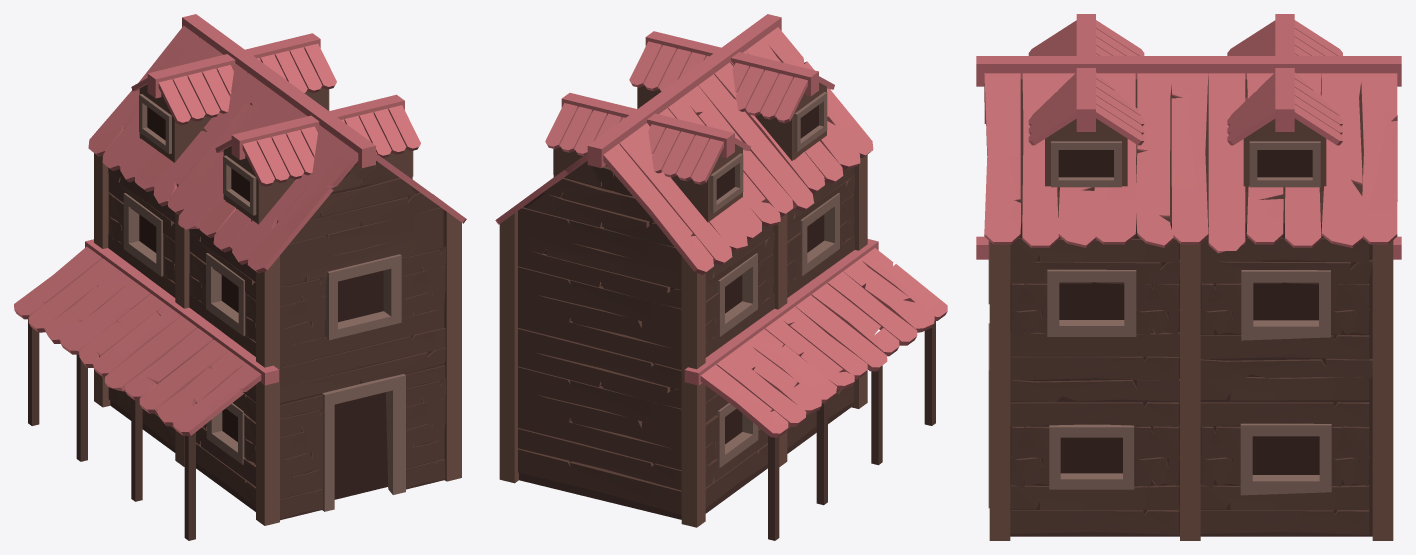
File: Building_013.glb
The picture shows the model from 3 angles, left to right: view 1: azimuth 30°, elevation 25°; view 2: azimuth 150°, elevation 25°; view 3: azimuth 270°, elevation 25°; orthographic projection. The views are drawn at different scales.
Parts seen in each view (by area): view 1: Building_013; view 2: Building_013; view 3: Building_013.
Part boxes in pixels (x1,y1,x2,y2): Building_013: (14, 14, 466, 540); Building_013: (495, 14, 947, 540); Building_013: (976, 14, 1401, 540).
Size of the model in its own units: 10.73 by 12.47 by 11.34.
1 material, 1 textured.
